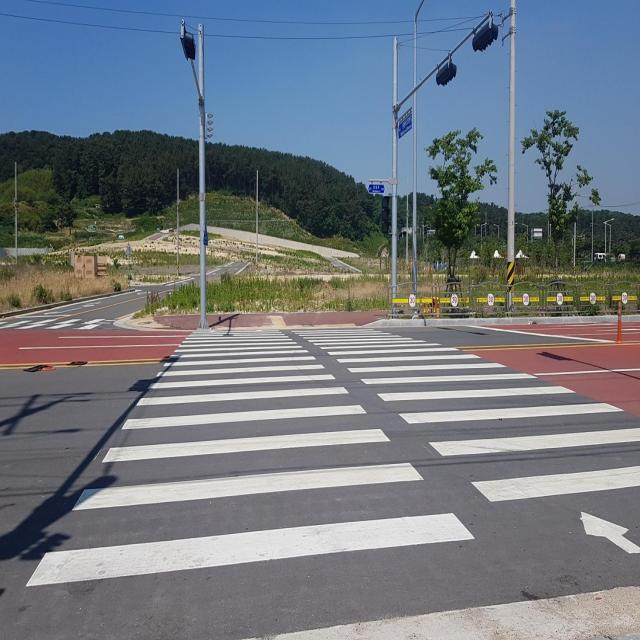횡단보도: (26, 330, 640, 588), (0, 317, 114, 331)
